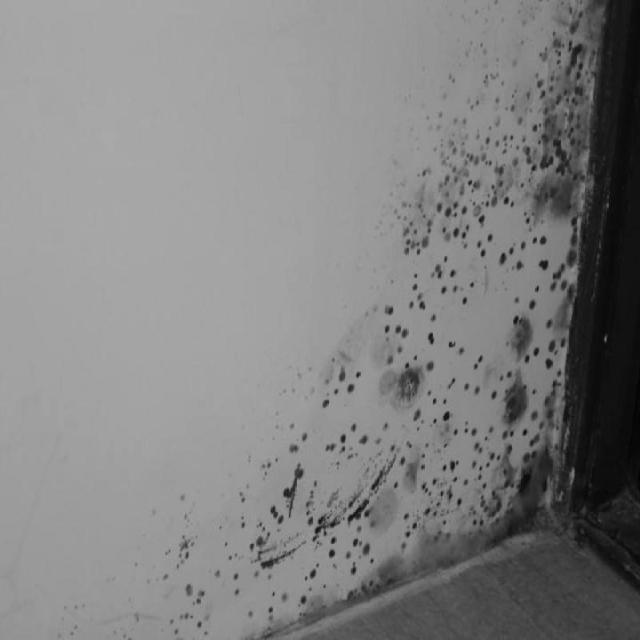stain marks: (144, 4, 626, 640)
